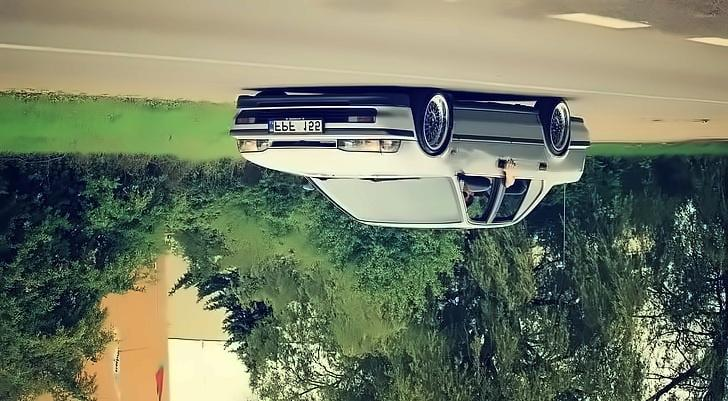Car hood: (238, 144, 459, 180)
Driver-s door - -F-R-: (434, 89, 514, 234)
Fender - -F-R-: (411, 106, 462, 184)
Fender - -R-R-: (537, 147, 590, 197)
Front bumper: (235, 88, 421, 141)
Headlight - -L-: (234, 138, 275, 153)
Headlight - -R-: (333, 139, 401, 152)
Passenger-s door - -R-R-: (485, 90, 548, 234)
Side bumper - -R-: (447, 98, 540, 133)
Side mirror - -R-: (454, 168, 490, 194)
